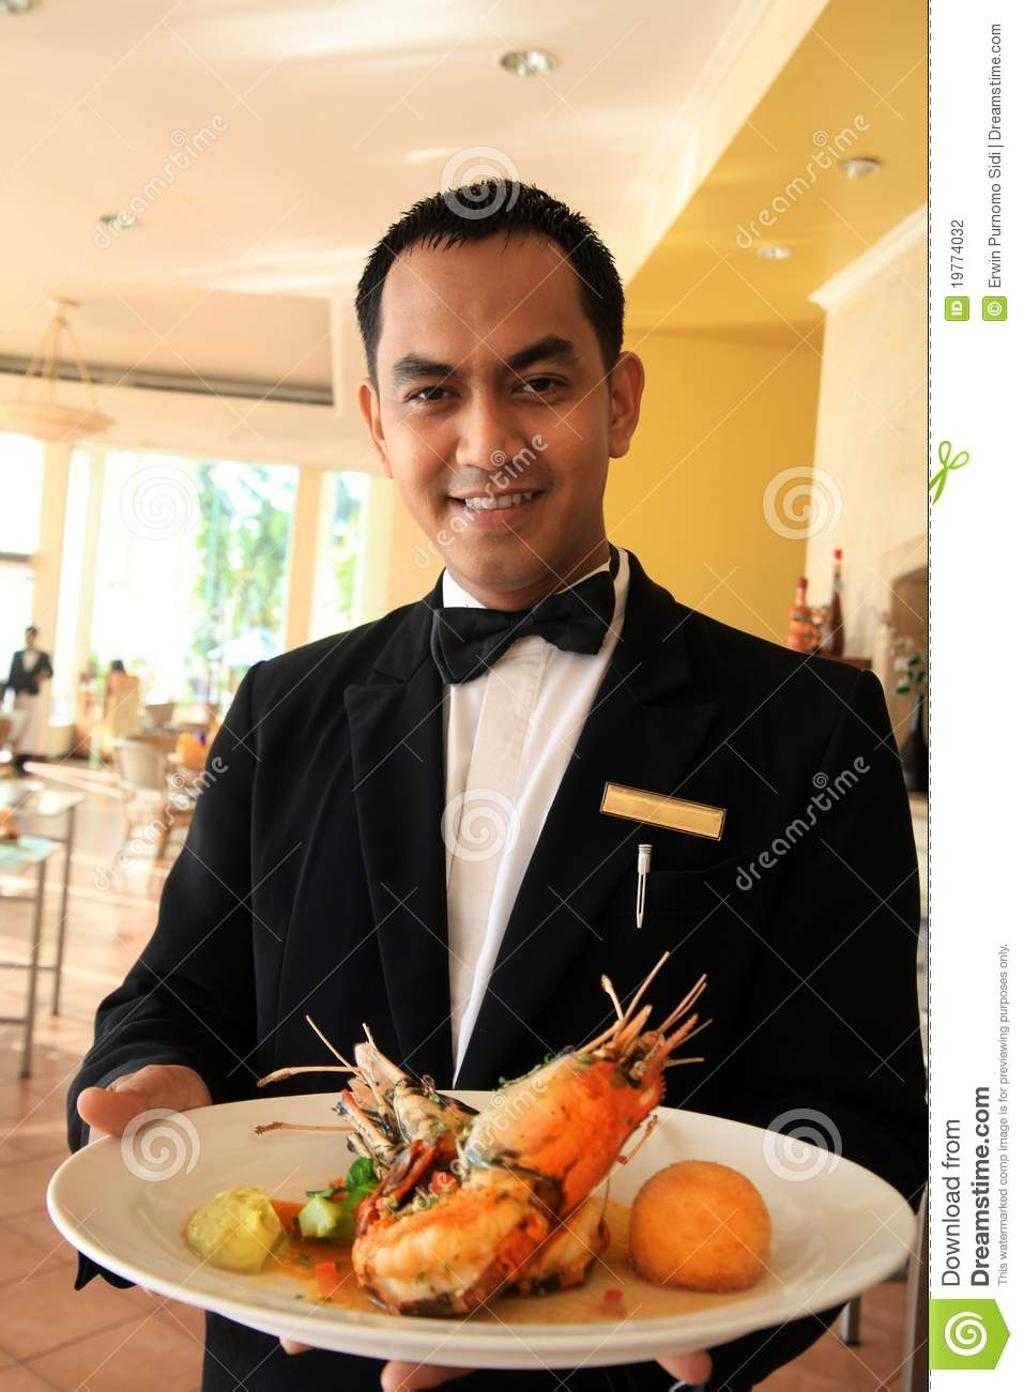face: (369, 239, 624, 581)
